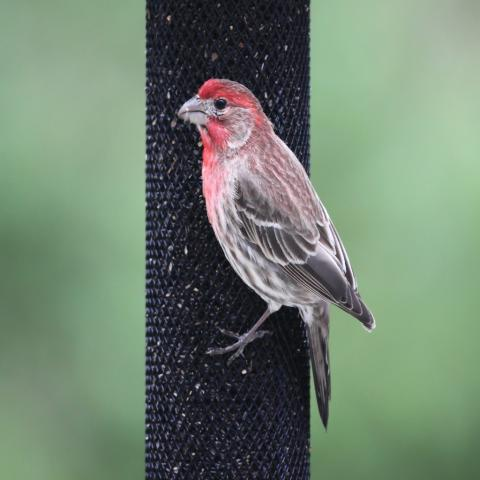bird: (174, 74, 377, 431)
